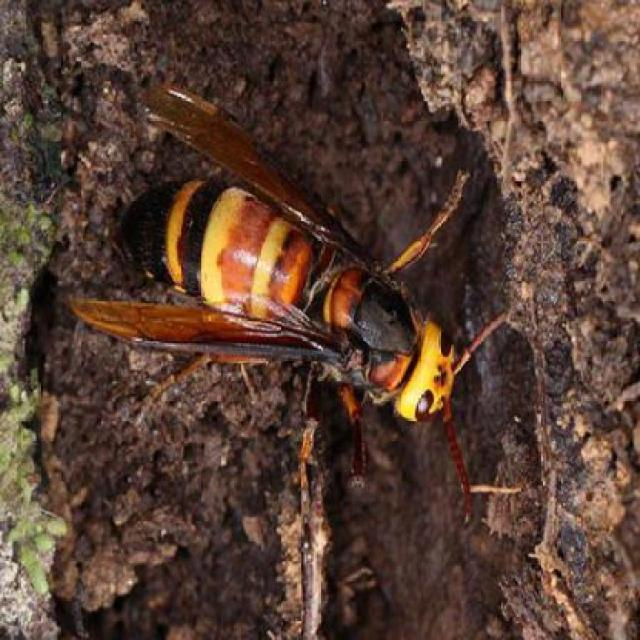Wasp: (69, 70, 525, 528)
